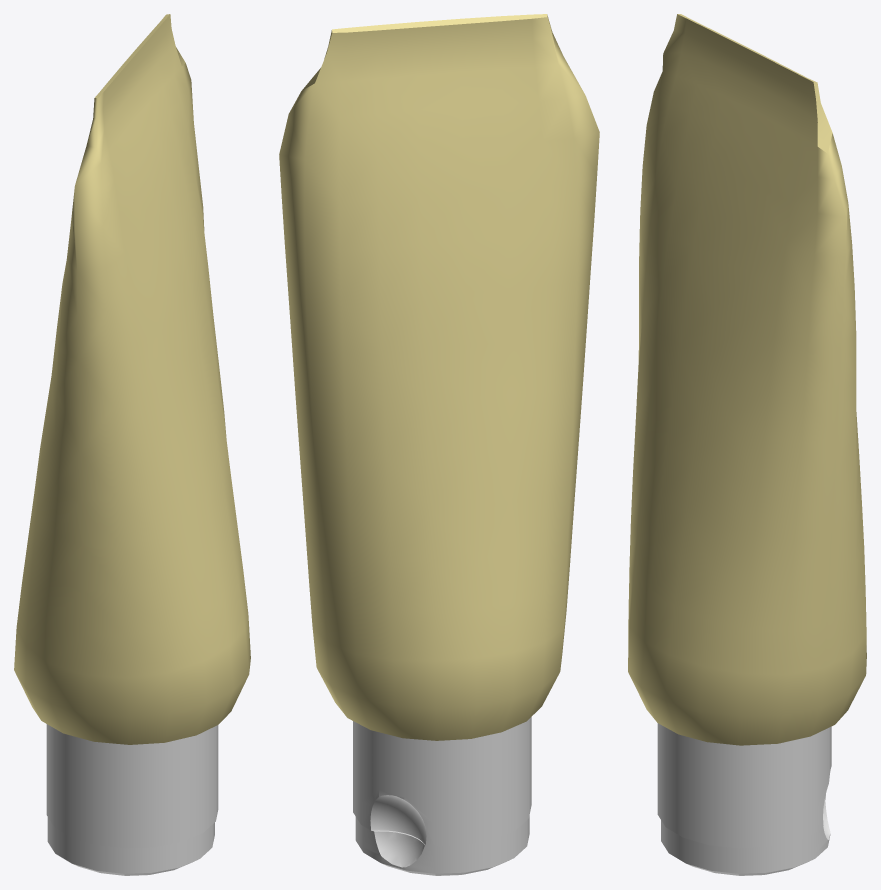
The model's file is tubica 2.fbx.
3 renders of one model, left to right at view 1: azimuth 30°, elevation 25°; view 2: azimuth 150°, elevation 25°; view 3: azimuth 270°, elevation 25°, orthographic. The views are drawn at different scales.
Visible parts, largest first — view 1: Cylinder5755, Cylinder5756, Cylinder5757; view 2: Cylinder5755, Cylinder5756, Cylinder5757; view 3: Cylinder5755, Cylinder5756, Cylinder5757.
Boxes of the visible parts, x1,y1,x2,y2 form: Cylinder5755: [14, 14, 250, 744]; Cylinder5756: [46, 724, 218, 848]; Cylinder5757: [47, 817, 214, 875]; Cylinder5755: [279, 14, 599, 740]; Cylinder5756: [353, 717, 531, 846]; Cylinder5757: [355, 816, 529, 875]; Cylinder5755: [628, 14, 866, 745]; Cylinder5756: [657, 723, 831, 848]; Cylinder5757: [661, 800, 830, 875].
Bounding box in the file's own units: 4.76 × 17.11 × 4.61.
